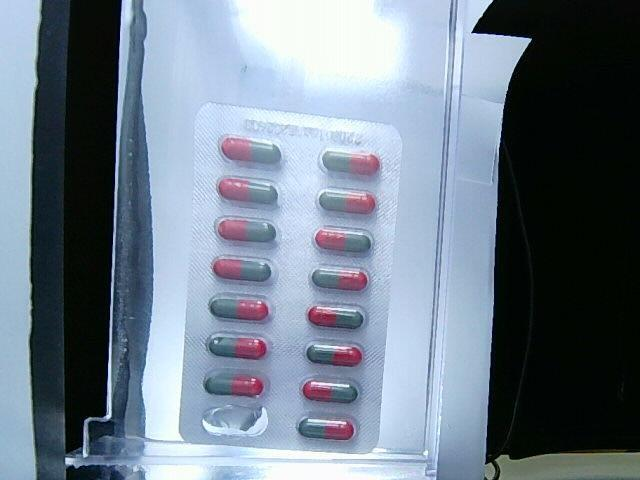Light Front: (177, 103, 404, 458)
No Pill Front: (203, 405, 269, 436)
Pill Front: (218, 178, 279, 205), (221, 136, 281, 163), (211, 256, 272, 281), (209, 296, 270, 321), (316, 189, 376, 214), (216, 218, 276, 243), (208, 334, 268, 359), (314, 228, 372, 253), (323, 150, 380, 175), (204, 374, 264, 397), (310, 268, 368, 291), (308, 305, 365, 328), (305, 343, 362, 366), (301, 379, 358, 402), (299, 419, 354, 440)
